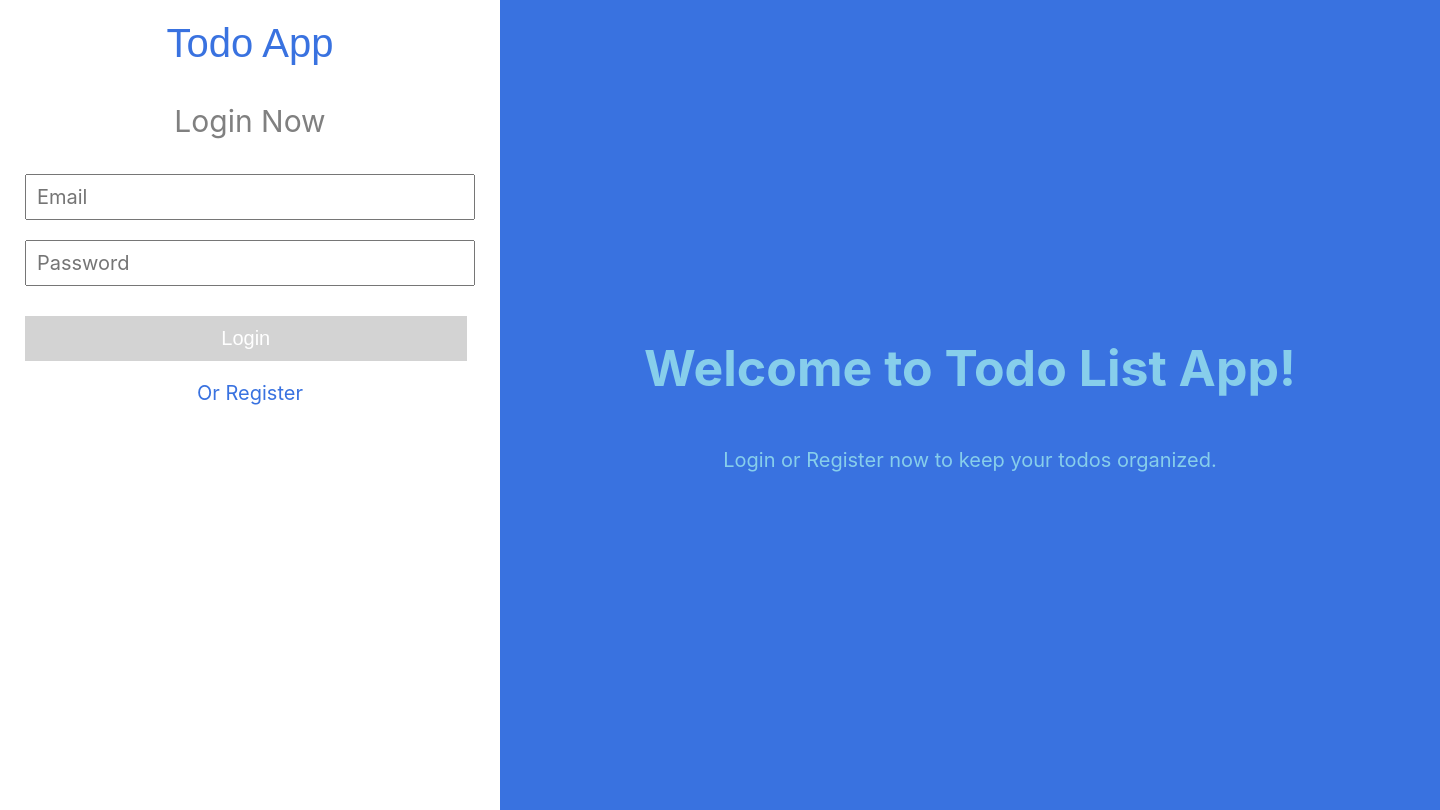
Test: Login › Login button should be enabled if email and password fields are not empty
The width and height of the screenshot is (1440, 810).
Type "john@doe.com" into the field with test id "email" at [250, 197], box [25,174,475,220]
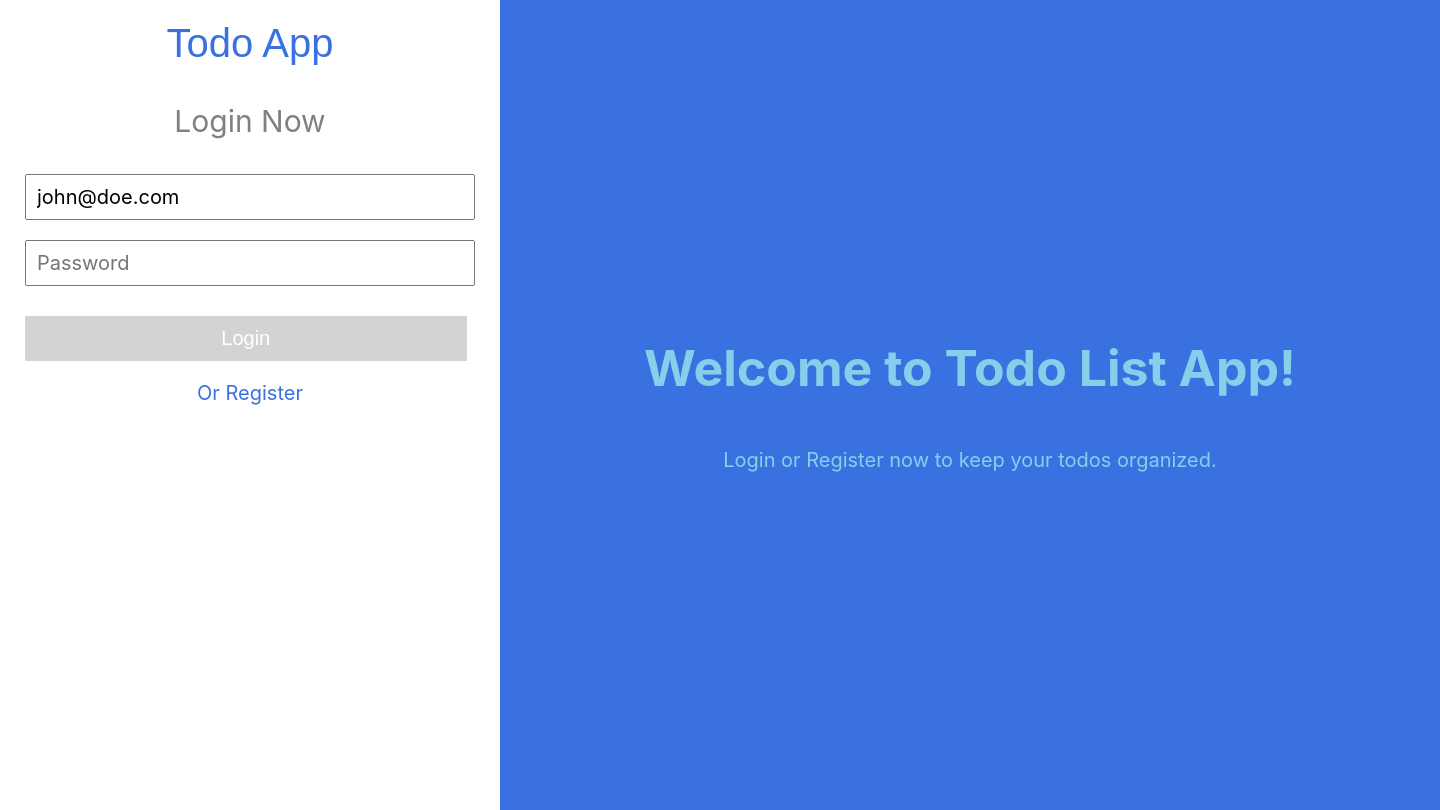
Type "johnabc" into the password field with test id "password" at [250, 263], box [25,240,475,286]
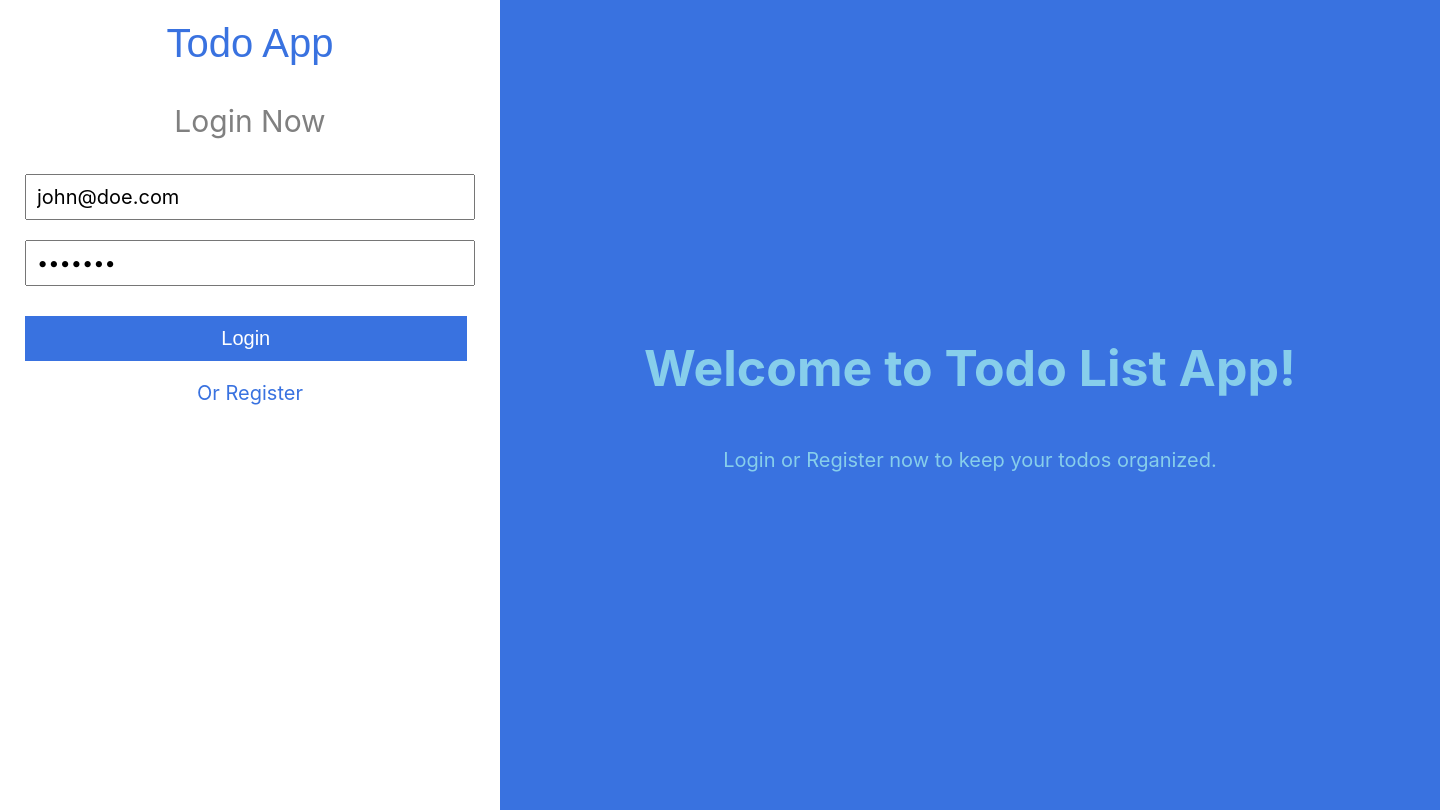
Result: the button with test id "login-button" is enabled at [25,316,466,361]
